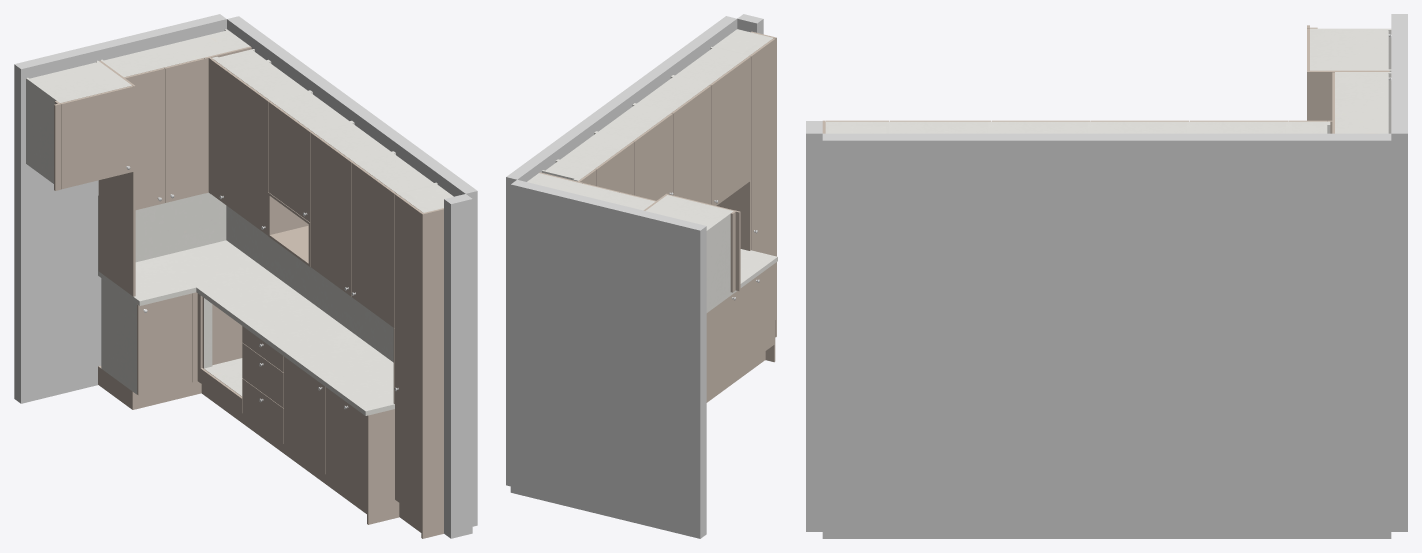
The model's file is KONYHA.glb.
3 renders of one model, left to right at view 1: azimuth 30°, elevation 25°; view 2: azimuth 150°, elevation 25°; view 3: azimuth 270°, elevation 25°, orthographic. The views are drawn at different scales.
Parts seen in each view (by area): view 1: 3DGeom-1, 3DGeom-175, 3DGeom-173, 3DGeom-448, 3DGeom-2, 3DGeom-501, 3DGeom-511, 3DGeom-177, 3DGeom-357, 3DGeom-249, 3DGeom-321, 3DGeom-206 (+36 smaller); view 2: 3DGeom-1, 3DGeom-2, 3DGeom-448, 3DGeom-357, 3DGeom-321, 3DGeom-145, 3DGeom-289, 3DGeom-113, 3DGeom-516, 3DGeom-193, 3DGeom-528, 3DGeom-249 (+13 smaller); view 3: 3DGeom-2, 3DGeom-1, 3DGeom-173, 3DGeom-193, 3DGeom-528, 3DGeom-504, 3DGeom-373, 3DGeom-338, 3DGeom-266, 3DGeom-304, 3DGeom-444.
Boxes of the visible parts, x1,y1,x2,y2 form: 3DGeom-1: (14,14,226,403); 3DGeom-175: (196,270,394,415); 3DGeom-173: (444,194,472,538); 3DGeom-448: (395,194,421,518); 3DGeom-2: (227,16,477,526); 3DGeom-501: (422,208,443,538); 3DGeom-511: (61,87,133,188); 3DGeom-177: (226,205,393,362); 3DGeom-357: (352,163,394,328); 3DGeom-249: (227,71,268,235); 3DGeom-321: (310,132,351,296); 3DGeom-206: (165,59,204,202); 3DGeom-1: (510,179,706,538); 3DGeom-2: (506,16,737,486); 3DGeom-448: (751,39,775,319); 3DGeom-357: (711,57,750,205); 3DGeom-321: (673,86,711,204); 3DGeom-145: (736,264,774,372); 3DGeom-289: (635,114,672,200); 3DGeom-113: (706,292,735,393); 3DGeom-516: (706,211,733,309); 3DGeom-193: (529,173,653,209); 3DGeom-528: (647,195,731,228); 3DGeom-249: (596,142,634,195); 3DGeom-2: (822,133,1391,538); 3DGeom-1: (1391,14,1407,531); 3DGeom-173: (806,121,822,531); 3DGeom-193: (1335,73,1387,133); 3DGeom-528: (1310,30,1387,69); 3DGeom-504: (1307,70,1389,121); 3DGeom-373: (892,121,988,133); 3DGeom-338: (994,121,1087,133); 3DGeom-266: (1192,121,1285,133); 3DGeom-304: (1093,121,1186,133); 3DGeom-444: (828,121,886,133).
Bounding box in the file's own units: 1.82 × 2.66 × 3.64.
21 materials, 5 textured.
